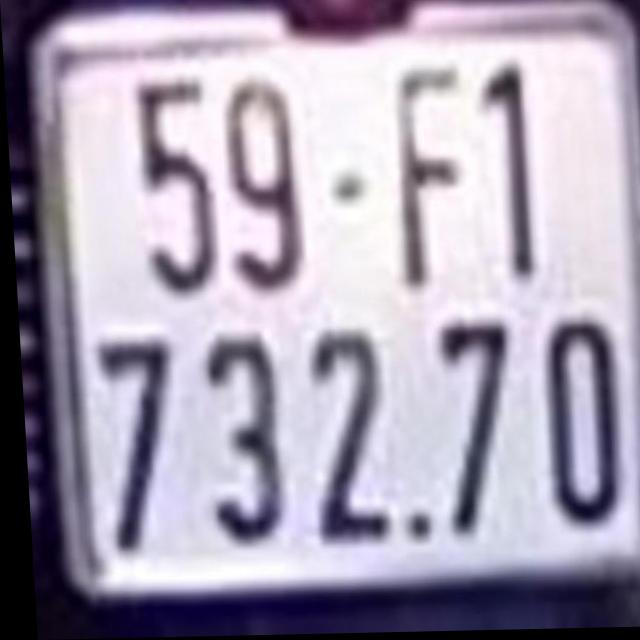0: (537, 319, 618, 520)
1: (479, 57, 534, 282)
2: (299, 324, 385, 543)
3: (204, 331, 287, 544)
5: (132, 74, 221, 286)
7: (90, 334, 177, 551), (434, 322, 514, 544)
9: (222, 75, 304, 292)
F: (392, 64, 473, 297)
